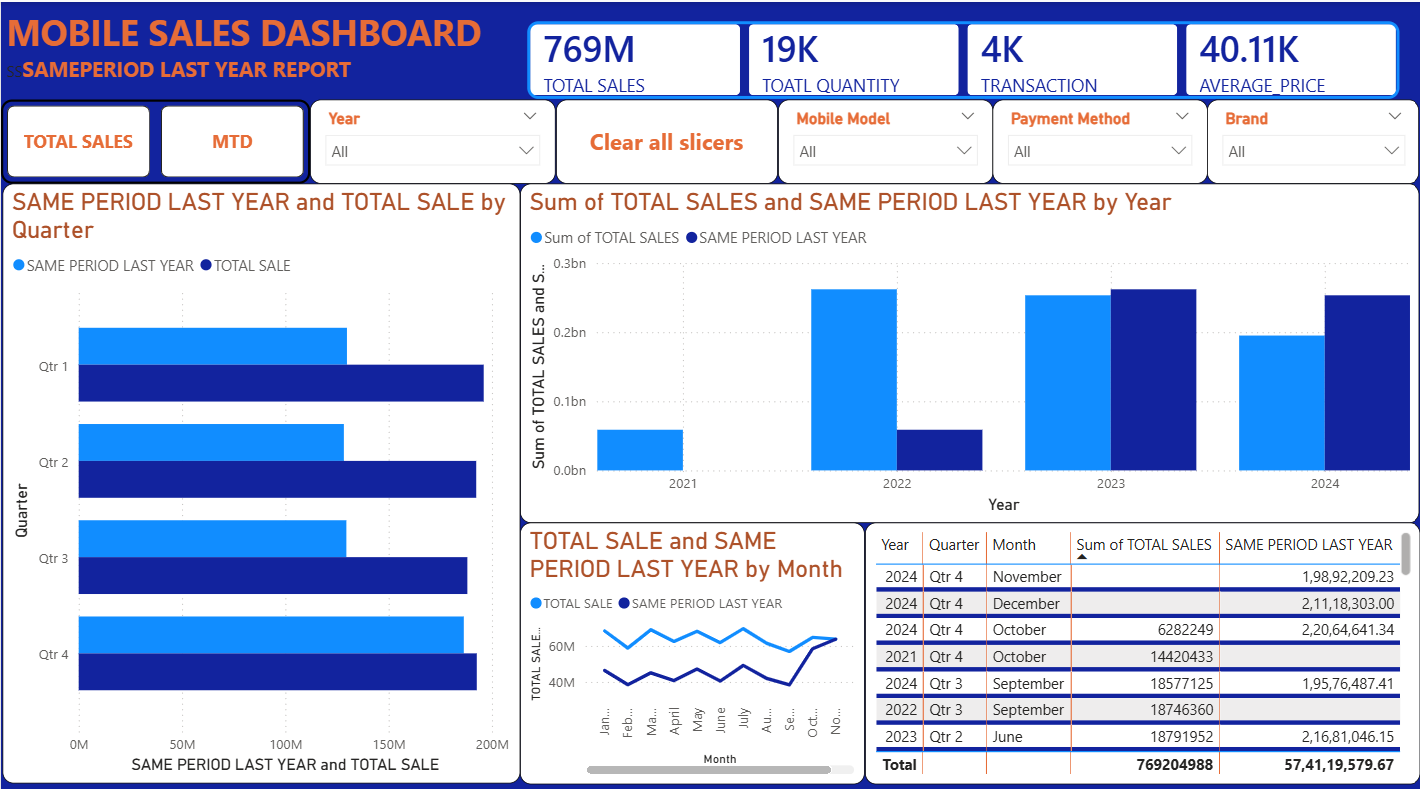

Layout of this report page (visuals, bound fields, positions):
{"tool":"powerbi","page":{"name":"SAME PERIOD LAST YEAR","canvas":[1280,720],"ordinal":2},"visuals":[{"type":"cardVisual","fields":{"Data":["Sum(Sheet1.TOTAL SALES)","Sheet1.TOATL QUANTITY","Sheet1.TRANSACTION","Sheet1.AVERAGE_PRICE"]},"box":[457.3,0,822.2,104.5],"z":0},{"type":"slicer","fields":{"Values":["Sheet1.Mobile Model"]},"box":[699.6,87.8,193.8,75.7],"z":1000},{"type":"slicer","fields":{"Values":["Sheet1.Payment Method"]},"box":[893.4,87.8,193.8,75.7],"z":2000},{"type":"slicer","fields":{"Values":["Sheet1.Brand"]},"box":[1087.2,87.8,192.3,75.7],"z":3000},{"type":"actionButton","box":[499.7,87.8,199.9,75.7],"z":4000},{"type":"pageNavigator","box":[0,87.8,278.6,75.7],"z":5000},{"type":"textbox","box":[0,0,467.9,87.8],"z":6000},{"type":"clusteredColumnChart","fields":{"Category":["CUSTOM DATE.DATE.Variation.Date Hierarchy.Year","CUSTOM DATE.DATE.Variation.Date Hierarchy.Quarter","CUSTOM DATE.DATE.Variation.Date Hierarchy.Month","CUSTOM DATE.DATE.Variation.Date Hierarchy.Day"],"Y":["Sum(Sheet1.TOTAL SALES)","Sheet1.SAME PERIOD LAST YEAR"]},"box":[467.9,163.5,811.6,305.9],"z":7000},{"type":"clusteredBarChart","fields":{"Category":["CUSTOM DATE.DATE.Variation.Date Hierarchy.Quarter"],"Y":["Sheet1.SAME PERIOD LAST YEAR","Sheet1.TOTAL SALES1"]},"box":[1.5,163.5,466.4,540.6],"z":8000},{"type":"tableEx","fields":{"Values":["CUSTOM DATE.DATE.Variation.Date Hierarchy.Year","CUSTOM DATE.DATE.Variation.Date Hierarchy.Quarter","CUSTOM DATE.DATE.Variation.Date Hierarchy.Month","Sum(Sheet1.TOTAL SALES)","Sheet1.SAME PERIOD LAST YEAR"]},"box":[778.3,469.4,501.2,236.2],"z":9000},{"type":"lineChart","fields":{"Category":["CUSTOM DATE.DATE.Variation.Date Hierarchy.Month"],"Y":["Sheet1.TOTAL SALES1","Sheet1.SAME PERIOD LAST YEAR"]},"box":[467.9,469.4,310.4,236.2],"z":10000},{"type":"slicer","fields":{"Values":["CUSTOM DATE.DATE.Variation.Date Hierarchy.Year"]},"box":[278.6,87.8,221.1,75.7],"z":11000}]}

Visuals, with their boxes in screenshot pixels (x1, y1, x2, y2), scaled from the page's 1280x720 canvas onto the 1420x789 screenshot:
cardVisual - Sum(Sheet1.TOTAL SALES) x Sheet1.TOATL QUANTITY: Rect(507, 0, 1419, 115)
slicer - Sheet1.Mobile Model: Rect(776, 96, 991, 179)
slicer - Sheet1.Payment Method: Rect(991, 96, 1206, 179)
slicer - Sheet1.Brand: Rect(1206, 96, 1419, 179)
actionButton: Rect(554, 96, 776, 179)
pageNavigator: Rect(0, 96, 309, 179)
textbox: Rect(0, 0, 519, 96)
clusteredColumnChart - CUSTOM DATE.DATE.Variation.Date Hierarchy.Year x CUSTOM DATE.DATE.Variation.Date Hierarchy.Quarter: Rect(519, 179, 1419, 514)
clusteredBarChart - CUSTOM DATE.DATE.Variation.Date Hierarchy.Quarter x Sheet1.SAME PERIOD LAST YEAR: Rect(2, 179, 519, 772)
tableEx - CUSTOM DATE.DATE.Variation.Date Hierarchy.Year x CUSTOM DATE.DATE.Variation.Date Hierarchy.Quarter: Rect(863, 514, 1419, 773)
lineChart - CUSTOM DATE.DATE.Variation.Date Hierarchy.Month x Sheet1.TOTAL SALES1: Rect(519, 514, 863, 773)
slicer - CUSTOM DATE.DATE.Variation.Date Hierarchy.Year: Rect(309, 96, 554, 179)
